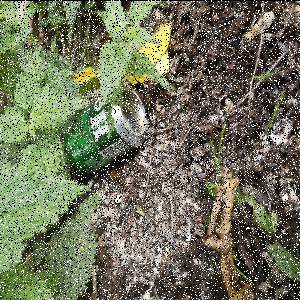Can: (64, 83, 150, 177)
